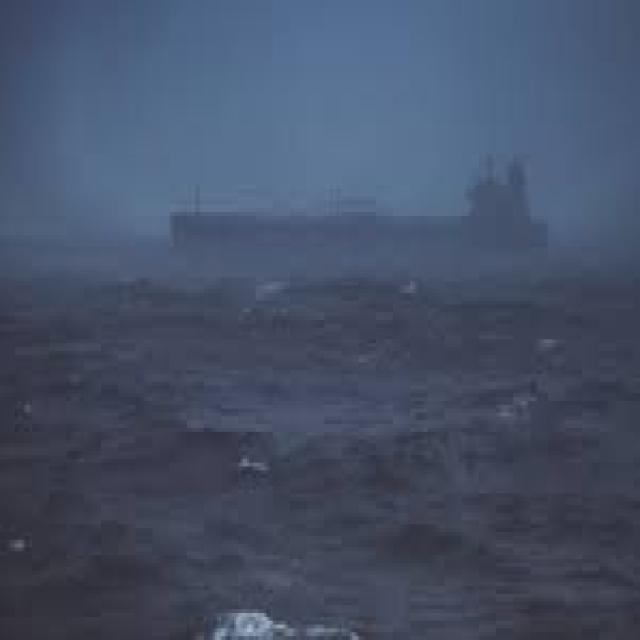cargoship: (165, 131, 542, 286)
